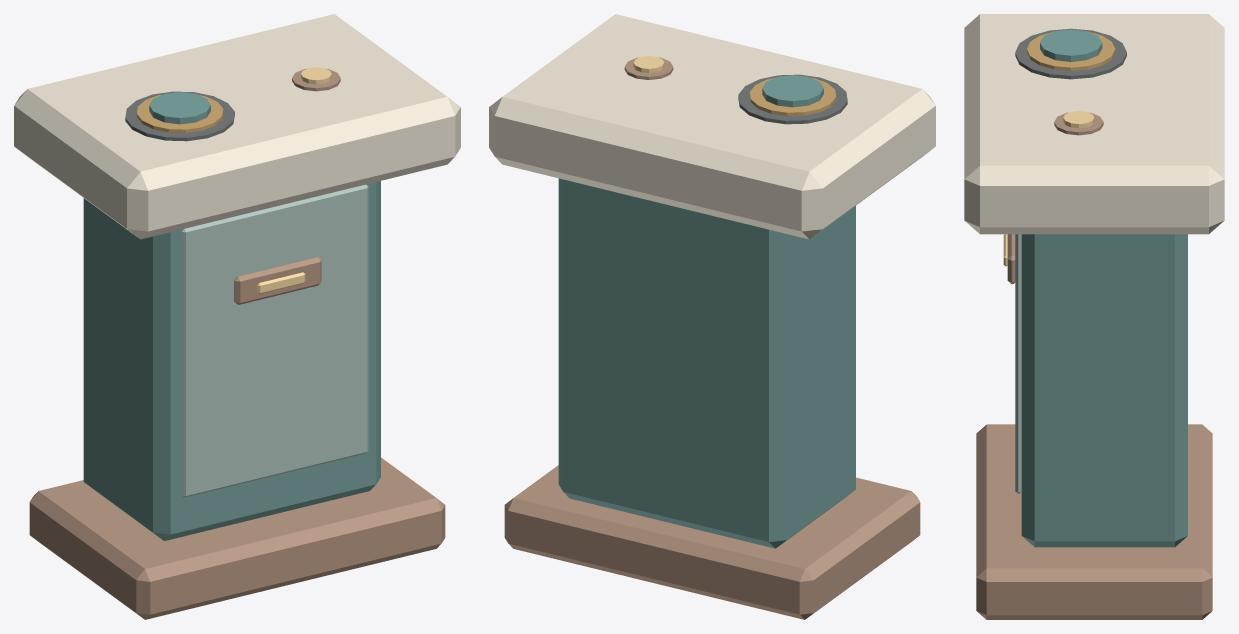
File: I05_solid_repair_candidate.glb
3 views of the same model, side by side, from view 1: azimuth 30°, elevation 25°; view 2: azimuth 150°, elevation 25°; view 3: azimuth 270°, elevation 25° (orthographic).
Parts seen in each view (by area): view 1: I05_Top_Control_Deck, I05_Front_Faceplate, I05_Podium_Body, I05_Base_Plinth, I05_Front_Status_Plate, I05_Dial_Base, I05_Dial_Knob, I05_Dial_Ring; view 2: I05_Podium_Body, I05_Top_Control_Deck, I05_Base_Plinth, I05_Dial_Base, I05_Dial_Knob, I05_Dial_Ring; view 3: I05_Podium_Body, I05_Top_Control_Deck, I05_Base_Plinth, I05_Front_Faceplate, I05_Dial_Base, I05_Dial_Knob, I05_Dial_Ring, I05_Status_Bezel, I05_Status_Insert, I05_Front_Status_Plate.
Part boxes in pixels (box(x1,y1,x2,y2)): I05_Top_Control_Deck: box(14, 14, 460, 239); I05_Front_Faceplate: box(181, 184, 368, 497); I05_Podium_Body: box(83, 181, 380, 540); I05_Base_Plinth: box(29, 457, 445, 619); I05_Front_Status_Plate: box(234, 257, 321, 304); I05_Dial_Base: box(125, 91, 234, 141); I05_Dial_Knob: box(149, 92, 210, 124); I05_Dial_Ring: box(136, 95, 223, 132); I05_Podium_Body: box(558, 178, 855, 548); I05_Top_Control_Deck: box(489, 14, 935, 239); I05_Base_Plinth: box(504, 465, 920, 619); I05_Dial_Base: box(738, 74, 847, 124); I05_Dial_Knob: box(762, 75, 823, 107); I05_Dial_Ring: box(749, 78, 836, 115); I05_Podium_Body: box(1021, 234, 1187, 547); I05_Top_Control_Deck: box(964, 14, 1224, 234); I05_Base_Plinth: box(976, 424, 1212, 619); I05_Front_Faceplate: box(1015, 234, 1021, 493); I05_Dial_Base: box(1015, 28, 1126, 79); I05_Dial_Knob: box(1040, 29, 1102, 61); I05_Dial_Ring: box(1027, 31, 1115, 70); I05_Status_Bezel: box(1054, 112, 1103, 135); I05_Status_Insert: box(1063, 111, 1094, 128); I05_Front_Status_Plate: box(1007, 234, 1015, 284).
Bounding box in the file's own units: 3 × 4 × 2.
